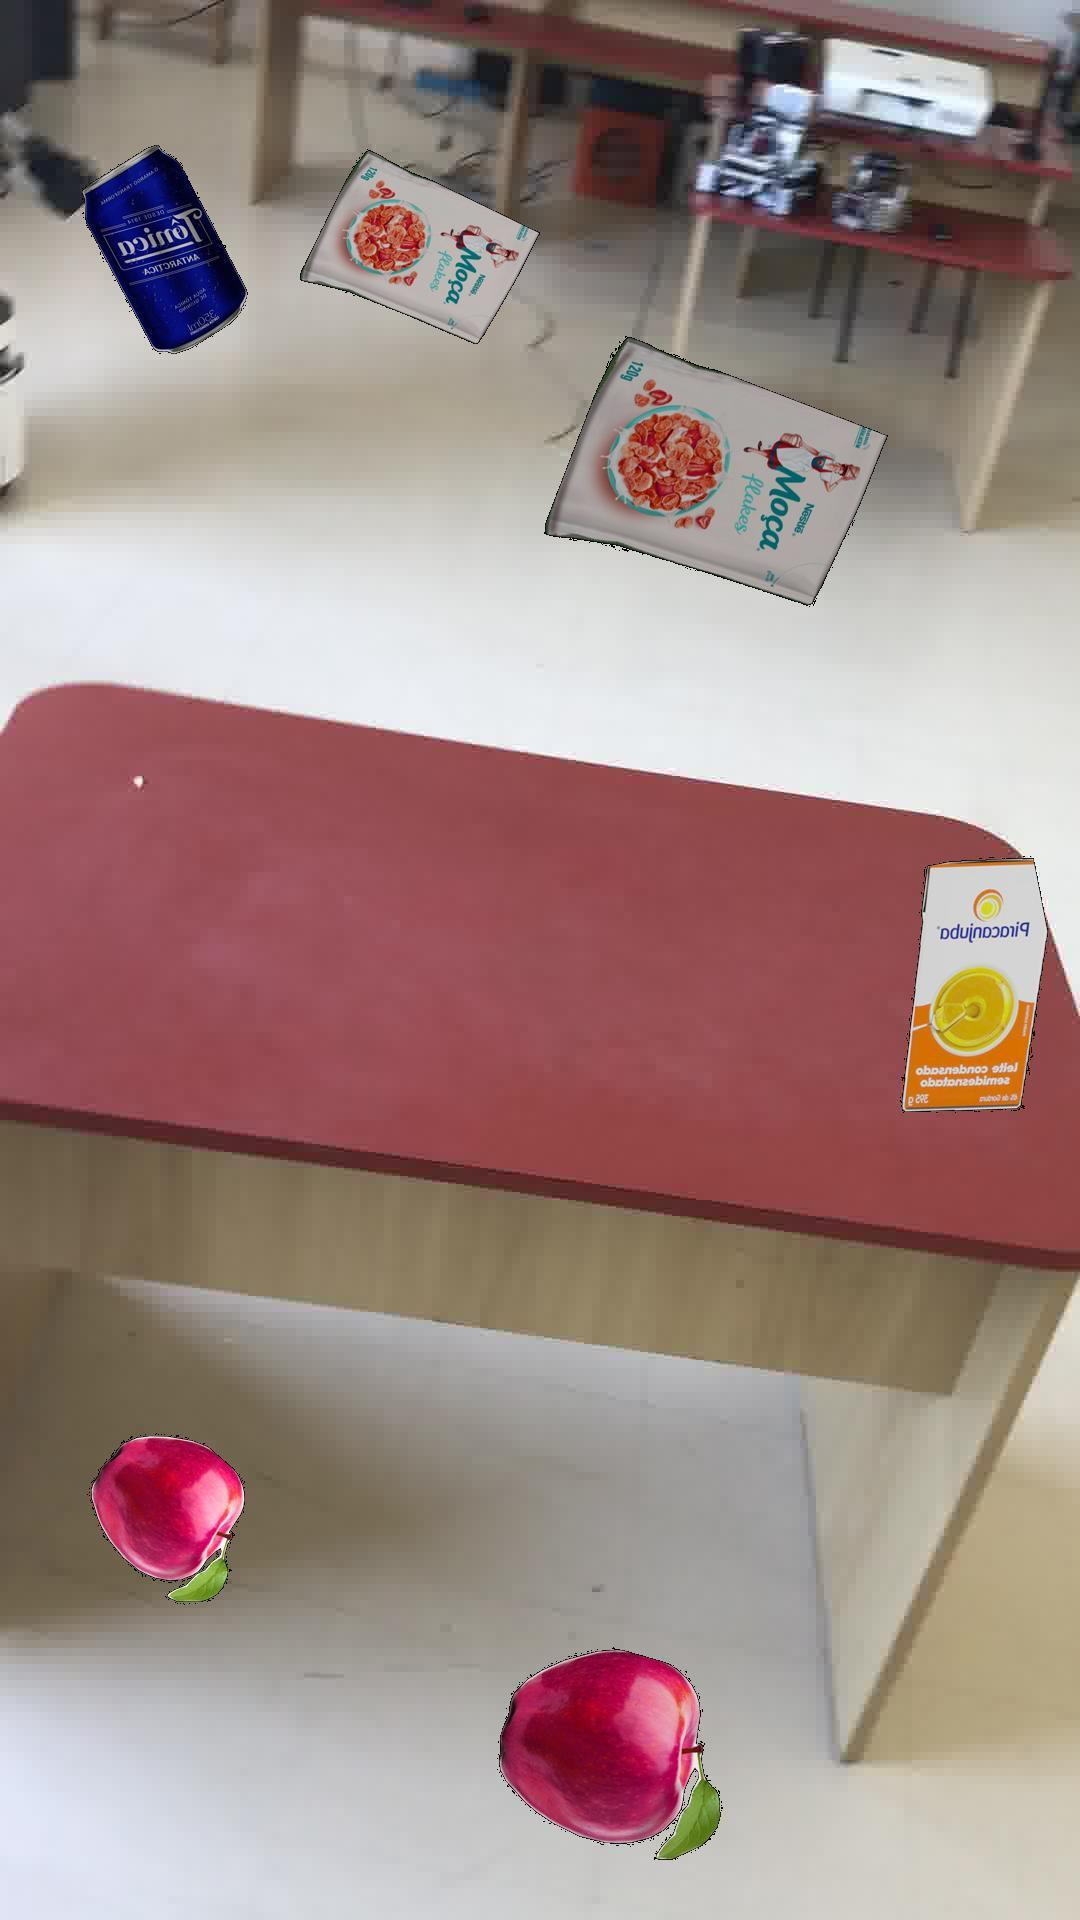apple: (497, 1646, 720, 1858), (90, 1433, 244, 1601)
corn flakes: (542, 335, 886, 604), (298, 149, 538, 343)
tonic: (80, 144, 247, 352)
